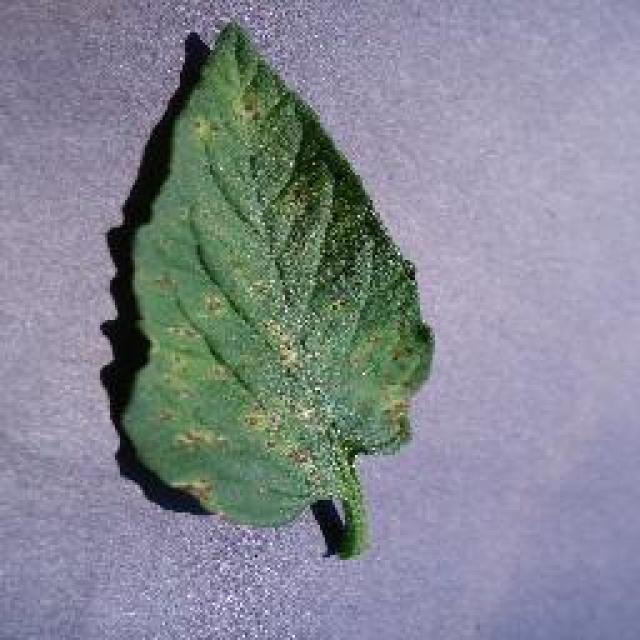Tomato target spot leaf: (118, 21, 440, 534)
